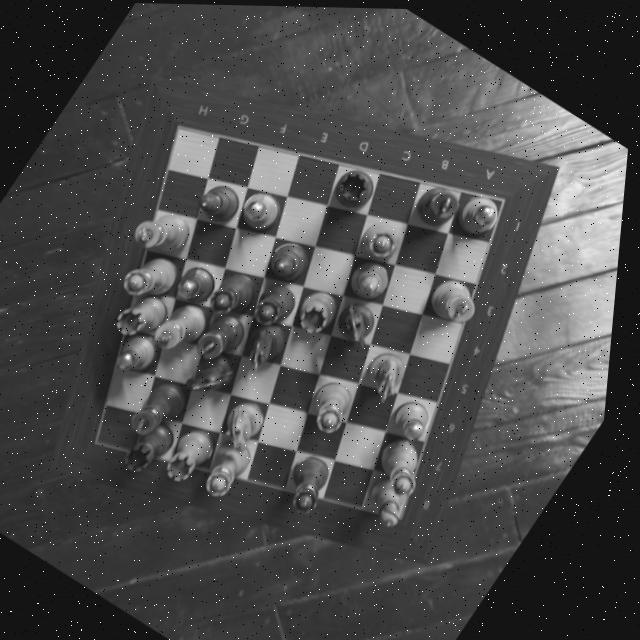chessboard: (103, 127, 505, 518)
